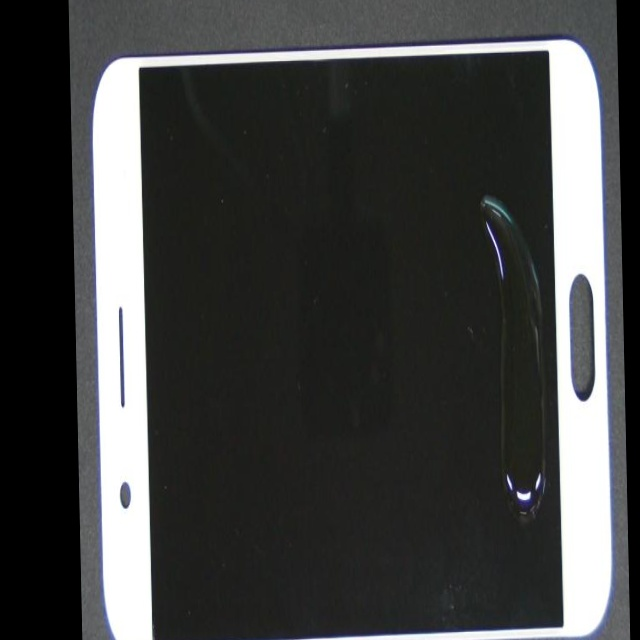oil: (273, 222, 632, 640)
